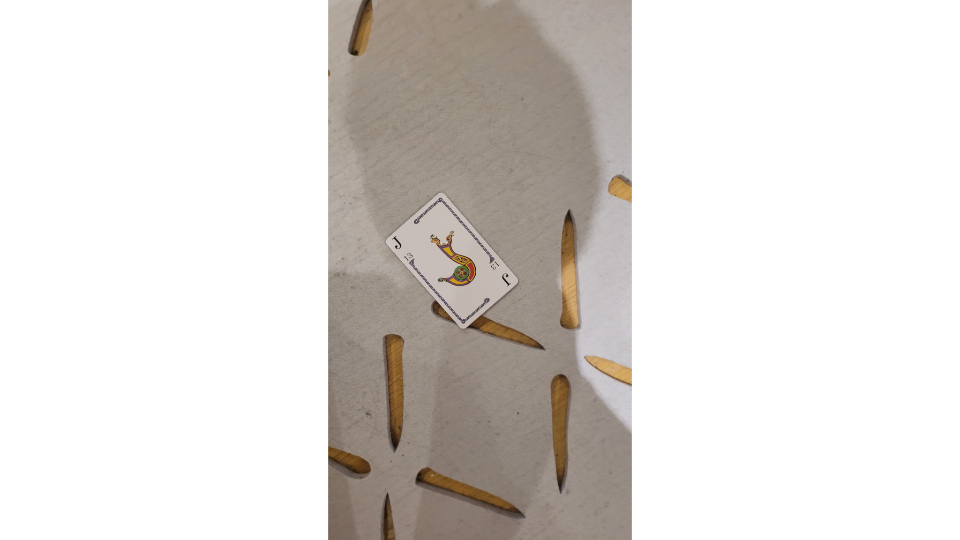J: (383, 191, 523, 332)
